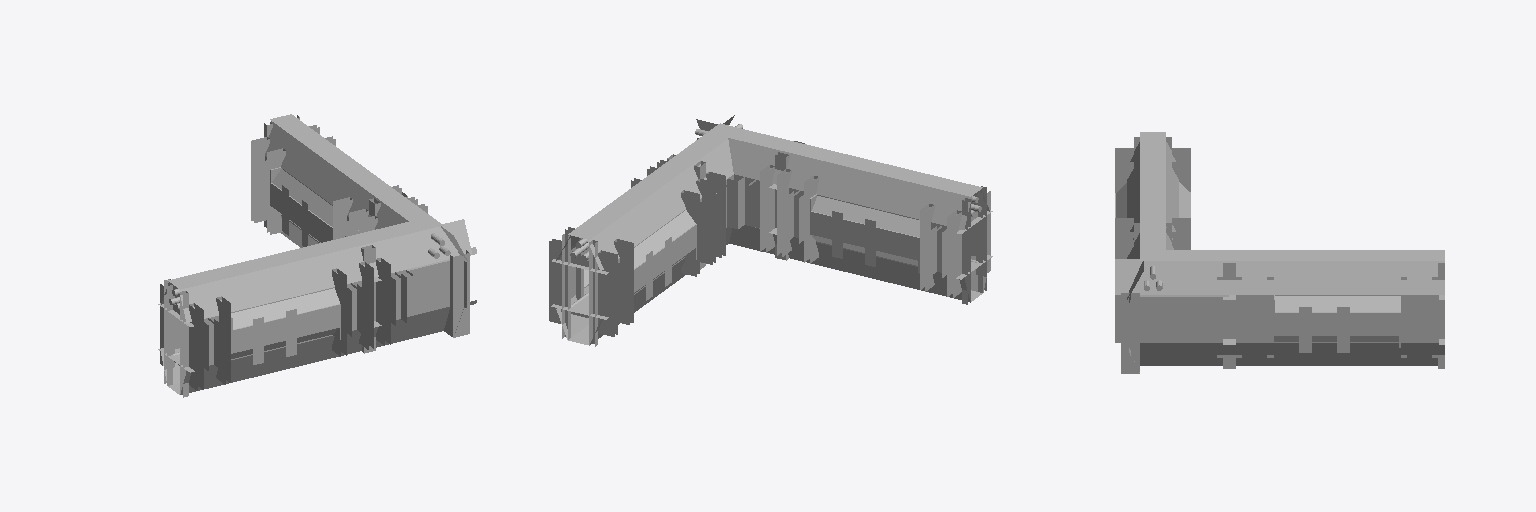
File: SFNR1.obj
3 renders of one model, left to right at view 1: azimuth 30°, elevation 25°; view 2: azimuth 150°, elevation 25°; view 3: azimuth 270°, elevation 25°, orthographic.
Parts seen in each view (by area): view 1: wall2_color2.bm; view 2: wall2_color2.bm; view 3: wall2_color2.bm.
Part boxes in pixels (x1,y1,x2,y2): wall2_color2.bm: (158,114,476,397); wall2_color2.bm: (549,115,992,346); wall2_color2.bm: (1115,132,1444,373).
Bounding box in the file's own units: 848 × 294 × 832.